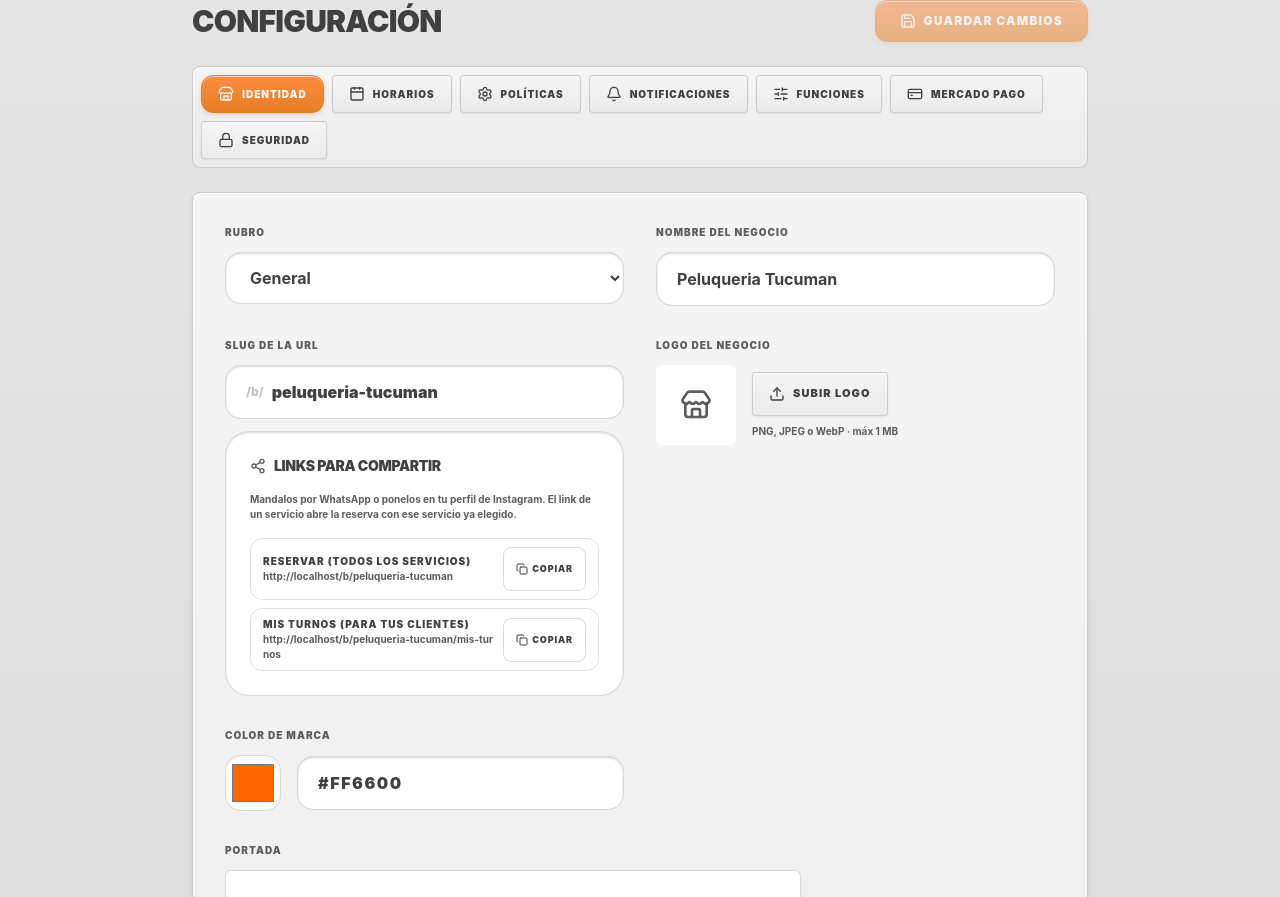
Scenario: Settings - cobros sin politica de sena › otro error del guardado no ofrece ir a la politica
The width and height of the screenshot is (1280, 897).
Click the button "Funciones": (819, 94) x1=756 y1=75 x2=882 y2=113
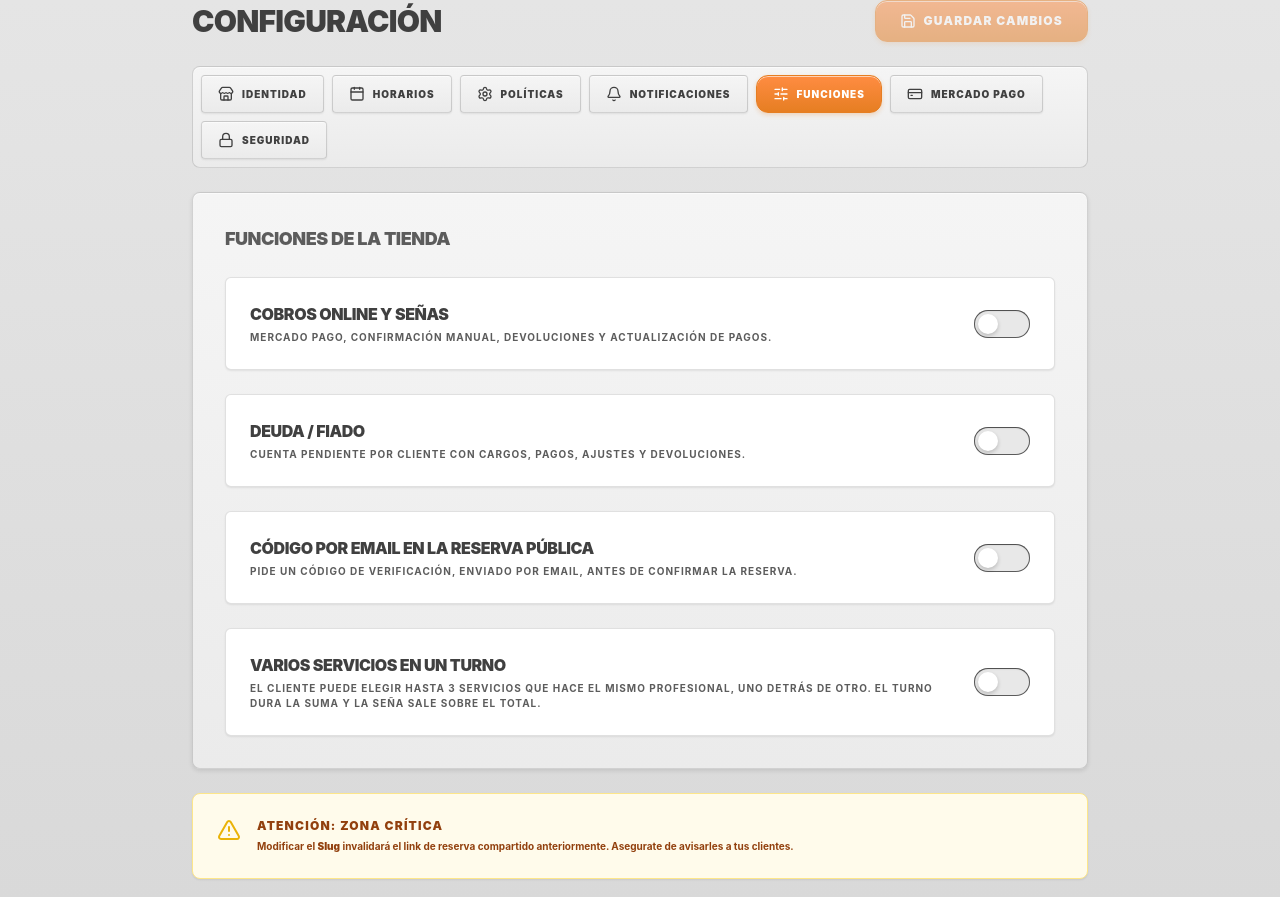
Click the switch named "Cobros online y señas": (1002, 324) x1=974 y1=310 x2=1030 y2=338
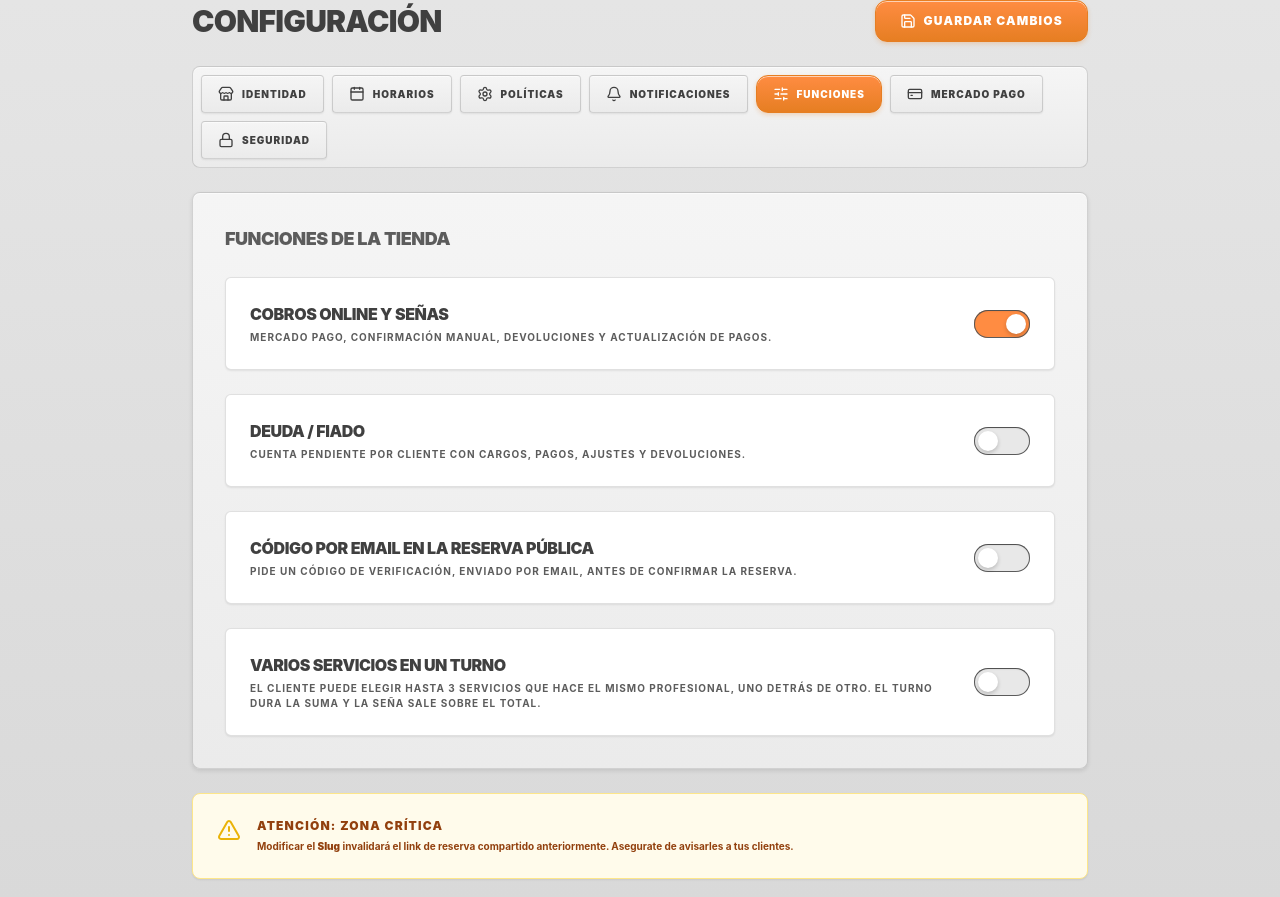
Click the button "Guardar Cambios": (981, 21) x1=874 y1=0 x2=1088 y2=42
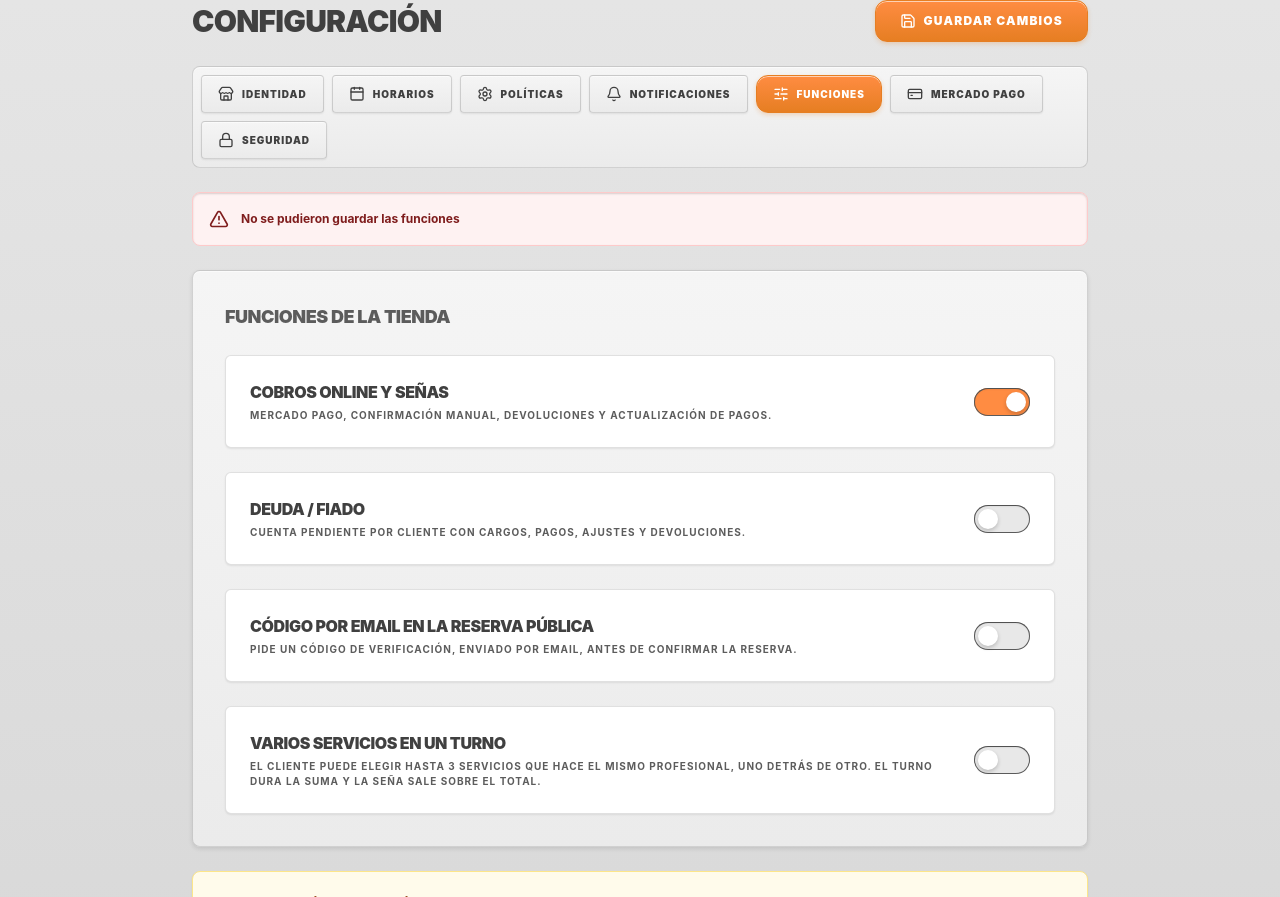
Expected: the text "No se pudieron guardar las funciones" is shown, x1=241 y1=211 x2=460 y2=227
